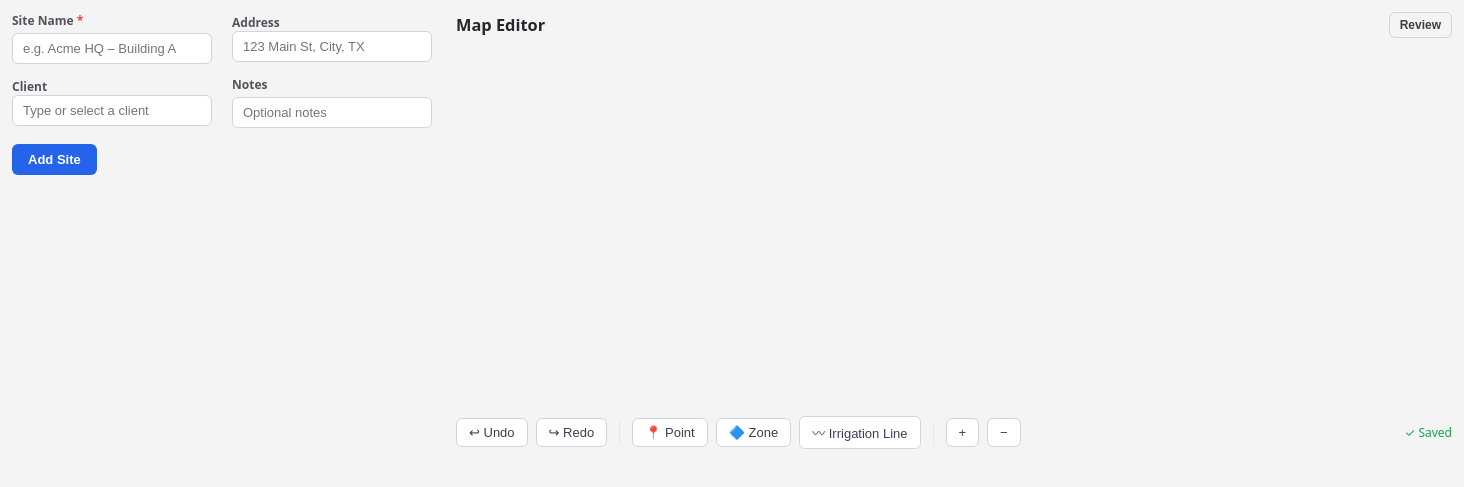
it: AddSiteForm › new client detection › hides new-client-details again if user clears the client field
Type "Brand New Client" into the field with placeholder "Type or select a client".
click(112, 110); type("Brand New Client")  # box [12,95,212,126]
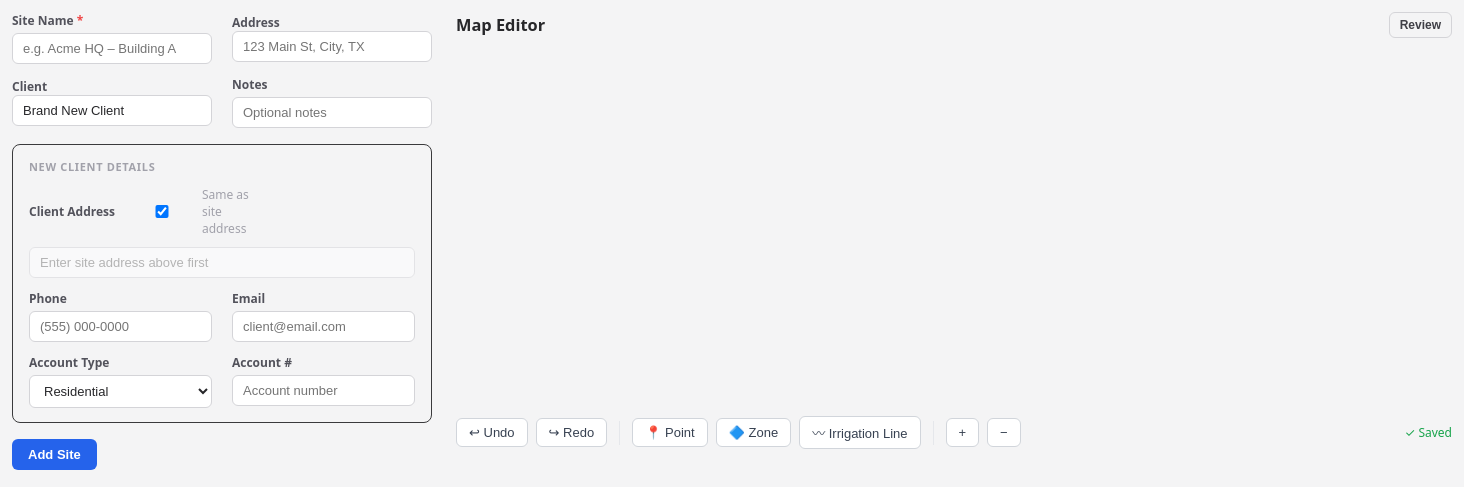
expect the element with test id "new-client-details" is shown: met, box [12,144,432,423]
Clear the field with placeholder "Type or select a client" at (112, 110), box [12,95,212,126]
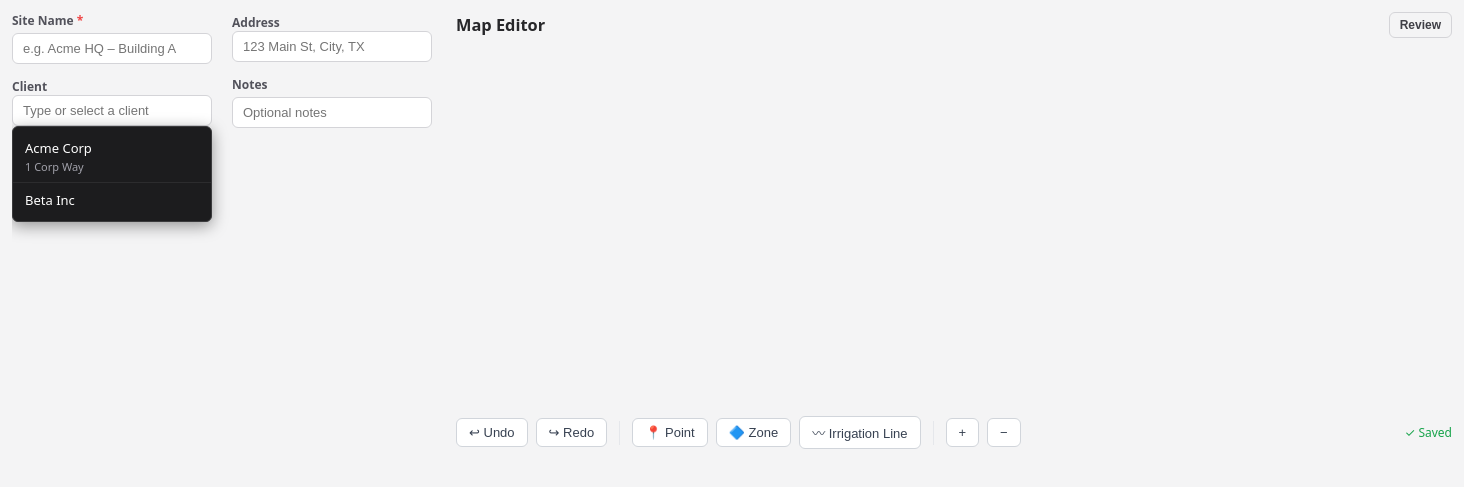
expect the element with test id "new-client-details" is gone: met
